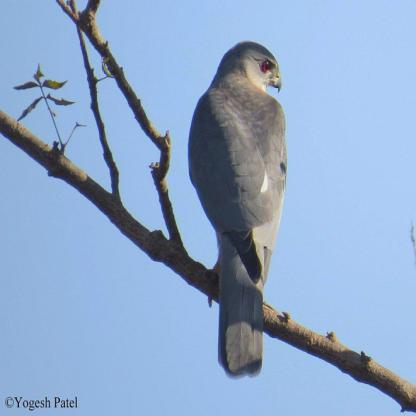Burung: (187, 40, 286, 378)
